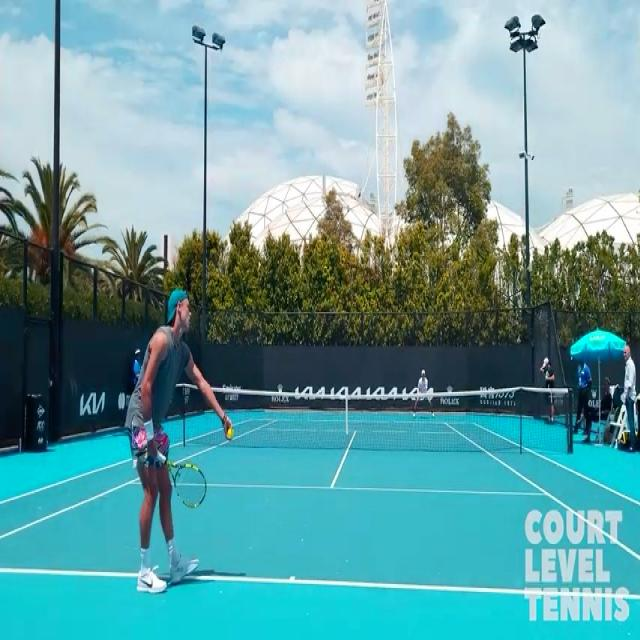serve_ready: (114, 276, 242, 606)
